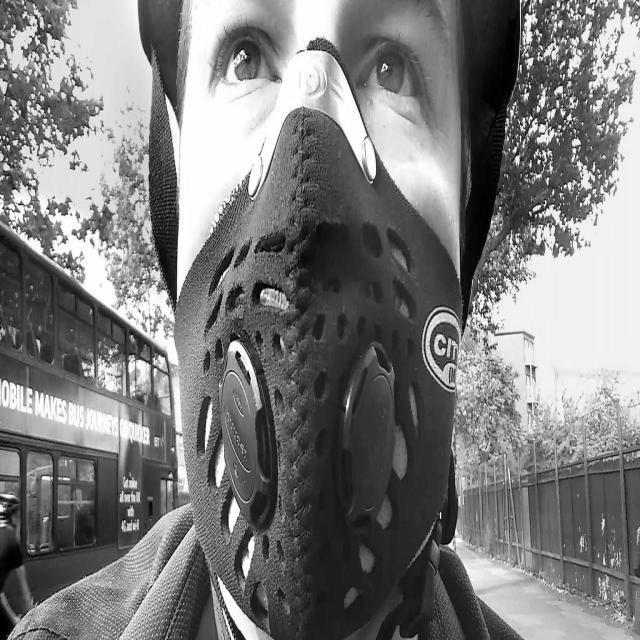fake: (175, 118, 460, 632)
real: (173, 5, 452, 634)
